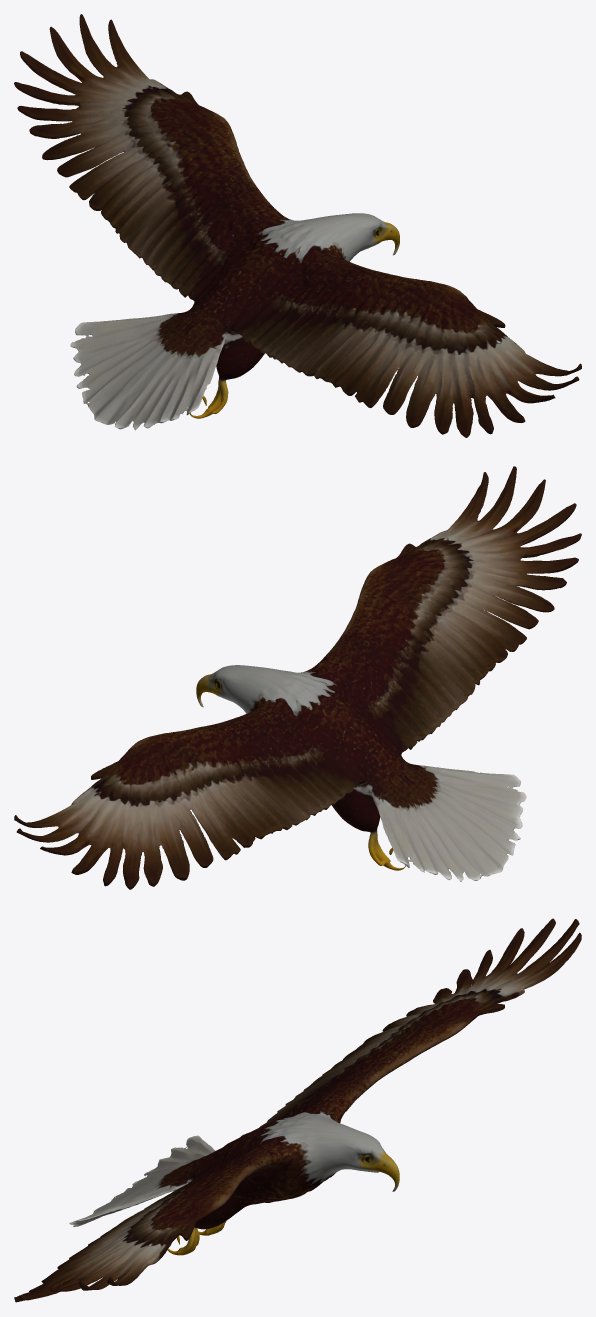
File: eagle.glb
3 views of the same model, one above another, from view 1: azimuth 30°, elevation 25°; view 2: azimuth 150°, elevation 25°; view 3: azimuth 330°, elevation 25° (orthographic).
Parts seen in each view (by area): view 1: tripo_node_52fbd8ef; view 2: tripo_node_52fbd8ef; view 3: tripo_node_52fbd8ef.
Boxes of the visible parts, x1,y1,x2,y2 form: tripo_node_52fbd8ef: (14,14,581,437); tripo_node_52fbd8ef: (14,466,581,889); tripo_node_52fbd8ef: (14,918,581,1302).
Bounding box in the file's own units: 0.3502 × 0.1966 × 0.9999.
Materials: 1 (1 with a texture image).
